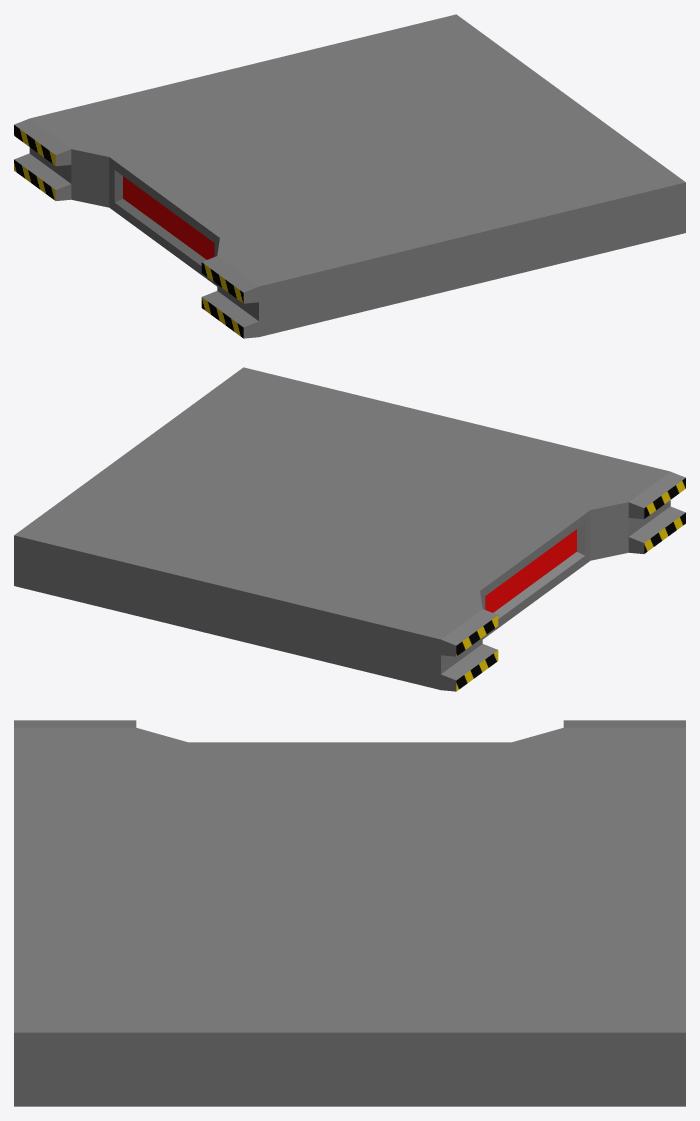
The model's file is move platfrom.FBX.
3 views of the same model, one above another, from view 1: azimuth 30°, elevation 25°; view 2: azimuth 150°, elevation 25°; view 3: azimuth 270°, elevation 25° (orthographic). The views are drawn at different scales.
Visible parts, largest first — view 1: Box001; view 2: Box001; view 3: Box001.
Part boxes in pixels (left/top/right/bottom): Box001: left=14, top=14, right=685, bottom=338; Box001: left=14, top=367, right=685, bottom=691; Box001: left=14, top=720, right=685, bottom=1106.
Bounding box in the file's own units: 21.61 × 2.36 × 19.42.
Materials: 1 (1 with a texture image).
